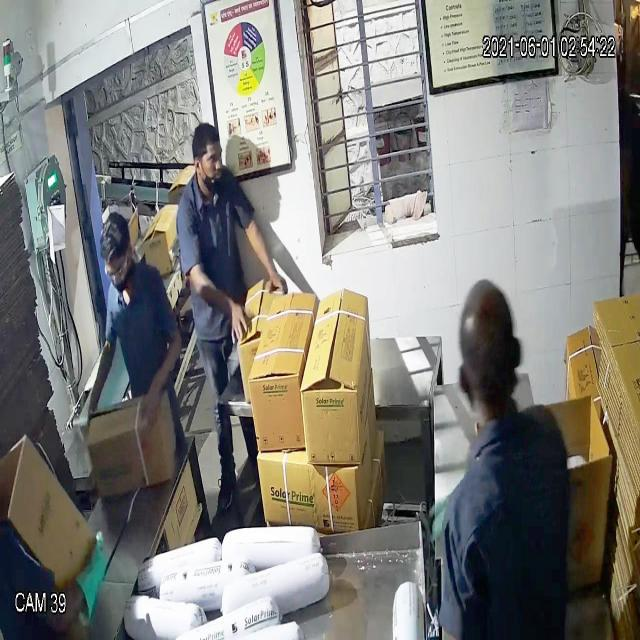glasses: (102, 248, 134, 291)
